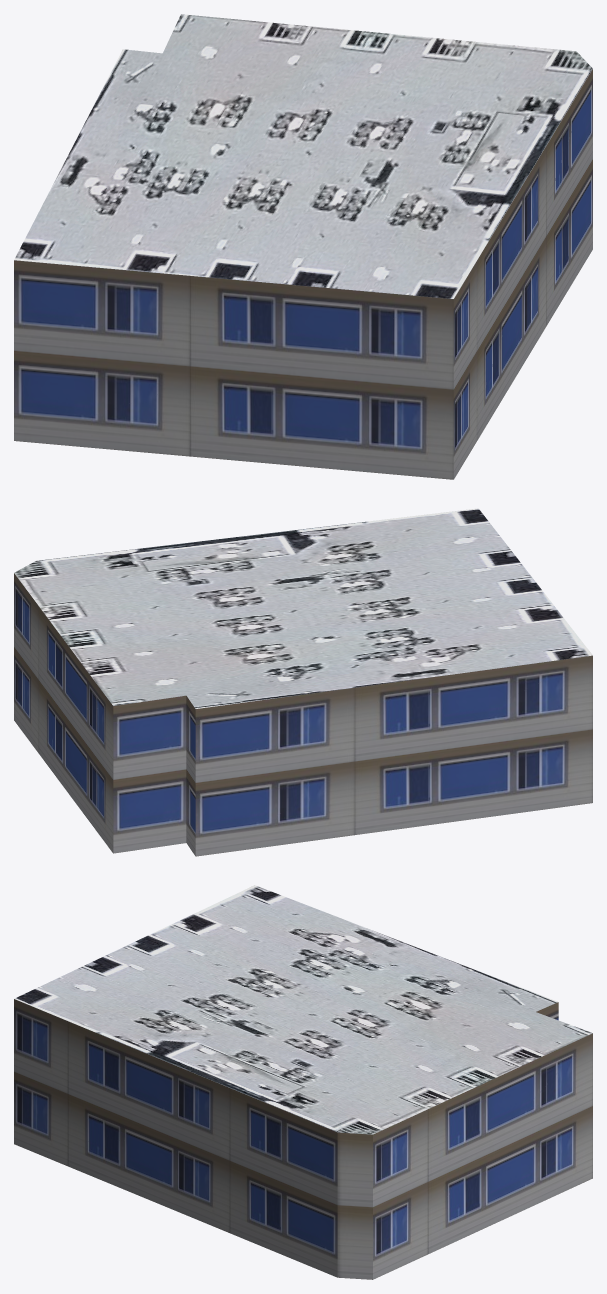
File: ResTex__1804.fbx
The picture shows the model from 3 angles, top to bottom: view 1: azimuth 30°, elevation 25°; view 2: azimuth 150°, elevation 25°; view 3: azimuth 270°, elevation 25°; orthographic projection. The views are drawn at different scales.
Visible parts, largest first — view 1: CityEngineMaterial_m, CityEngineMaterial_23_m; view 2: CityEngineMaterial_23_m, CityEngineMaterial_m; view 3: CityEngineMaterial_23_m, CityEngineMaterial_m.
Part boxes in pixels (bbox=[...]): CityEngineMaterial_m: bbox=[14, 14, 592, 298]; CityEngineMaterial_23_m: bbox=[14, 69, 592, 479]; CityEngineMaterial_23_m: bbox=[14, 573, 592, 856]; CityEngineMaterial_m: bbox=[14, 508, 592, 708]; CityEngineMaterial_23_m: bbox=[14, 999, 592, 1279]; CityEngineMaterial_m: bbox=[14, 885, 592, 1134].
Bounding box in the file's own units: 22.09 × 6 × 21.67.
2 materials, 2 textured.
